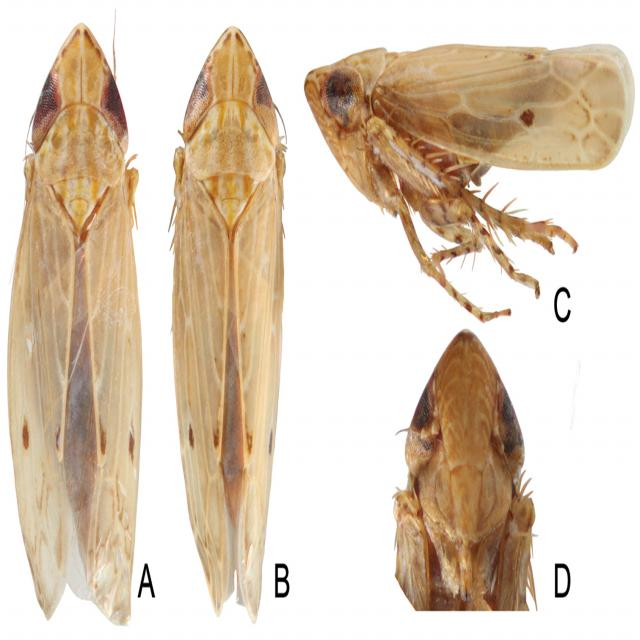Yechan: (163, 19, 297, 624), (9, 13, 142, 620)
